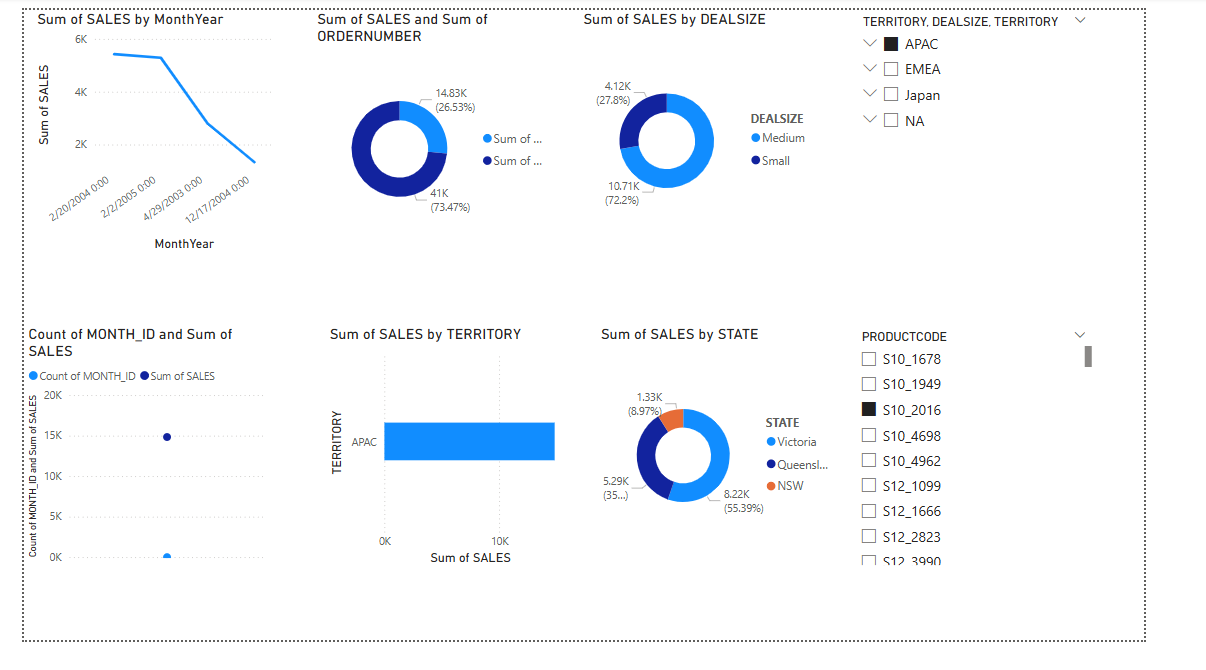

What the dashboard file says about the page in this screenshot:
{"tool":"powerbi","page":{"name":"Page 1","canvas":[1280,720],"ordinal":0},"visuals":[{"type":"lineChart","fields":{"Y":["Sum(sales_data_sample.SALES)"],"Category":["sales_data_sample.MonthYear"]},"box":[10,0,280,280],"z":0},{"type":"lineChart","fields":{"Y":["CountNonNull(sales_data_sample.MONTH_ID)","Sum(sales_data_sample.SALES)"]},"box":[0,359.7,279.6,279.6],"z":1000},{"type":"barChart","fields":{"Y":["Sum(sales_data_sample.SALES)"],"Category":["sales_data_sample.TERRITORY"]},"box":[344.3,359.7,279.6,279.6],"z":2000},{"type":"donutChart","fields":{"Y":["Sum(sales_data_sample.SALES)","Sum(sales_data_sample.ORDERNUMBER)"]},"box":[330.7,0,279.6,279.6],"z":3000},{"type":"donutChart","fields":{"Y":["Sum(sales_data_sample.SALES)"],"Category":["sales_data_sample.DEALSIZE"]},"box":[634,0,280,280],"z":4000},{"type":"donutChart","fields":{"Y":["Sum(sales_data_sample.SALES)"],"Category":["sales_data_sample.STATE"]},"box":[654.6,359.7,279.6,279.6],"z":5000},{"type":"slicer","fields":{"Values":["sales_data_sample.TERRITORY","sales_data_sample.DEALSIZE","sales_data_sample.TERRITORY"]},"box":[945,0,280,280],"z":6000},{"type":"slicer","fields":{"Values":["sales_data_sample.PRODUCTCODE"]},"box":[944.3,359.7,281.3,279.6],"z":7000}]}

Visuals, with their boxes in screenshot pixels (x1, y1, x2, y2), scaled from the page's 1280x720 canvas onto the 1206x670 screenshot:
lineChart - Sum(sales_data_sample.SALES) x sales_data_sample.MonthYear: bbox=(9, 0, 273, 261)
lineChart - CountNonNull(sales_data_sample.MONTH_ID) x Sum(sales_data_sample.SALES): bbox=(0, 335, 263, 595)
barChart - Sum(sales_data_sample.SALES) x sales_data_sample.TERRITORY: bbox=(324, 335, 588, 595)
donutChart - Sum(sales_data_sample.SALES) x Sum(sales_data_sample.ORDERNUMBER): bbox=(312, 0, 575, 260)
donutChart - Sum(sales_data_sample.SALES) x sales_data_sample.DEALSIZE: bbox=(597, 0, 861, 261)
donutChart - Sum(sales_data_sample.SALES) x sales_data_sample.STATE: bbox=(617, 335, 880, 595)
slicer - sales_data_sample.TERRITORY x sales_data_sample.DEALSIZE: bbox=(890, 0, 1154, 261)
slicer - sales_data_sample.PRODUCTCODE: bbox=(890, 335, 1155, 595)
